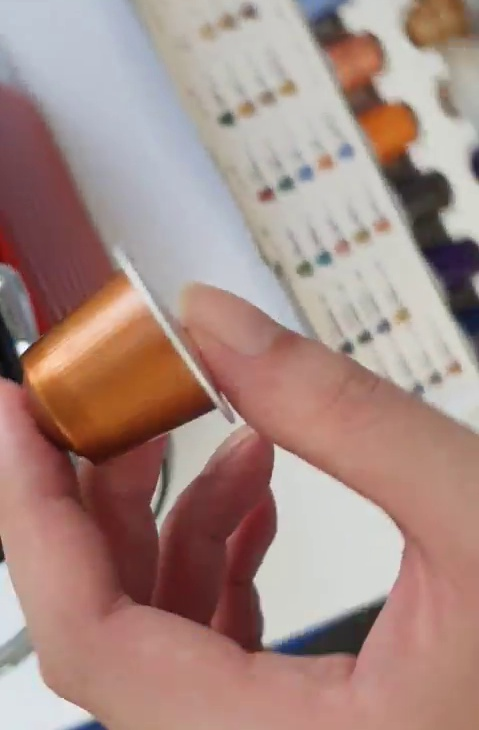capsule_3: (18, 242, 247, 459)
